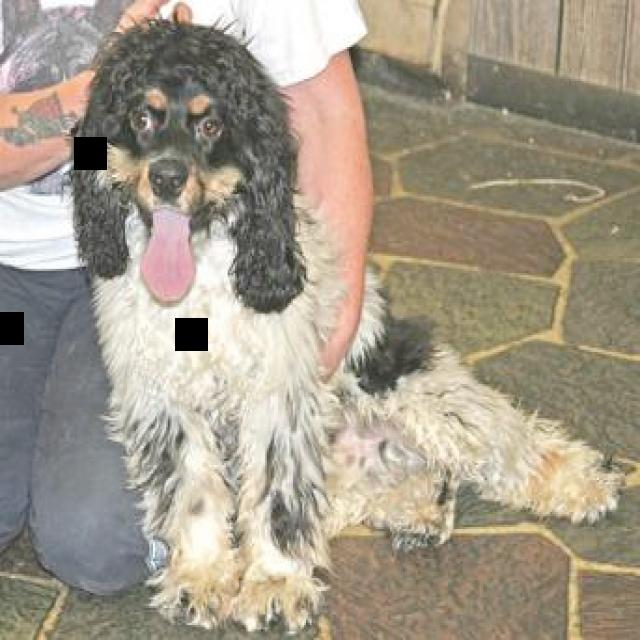adult_dog: (66, 11, 632, 633)
